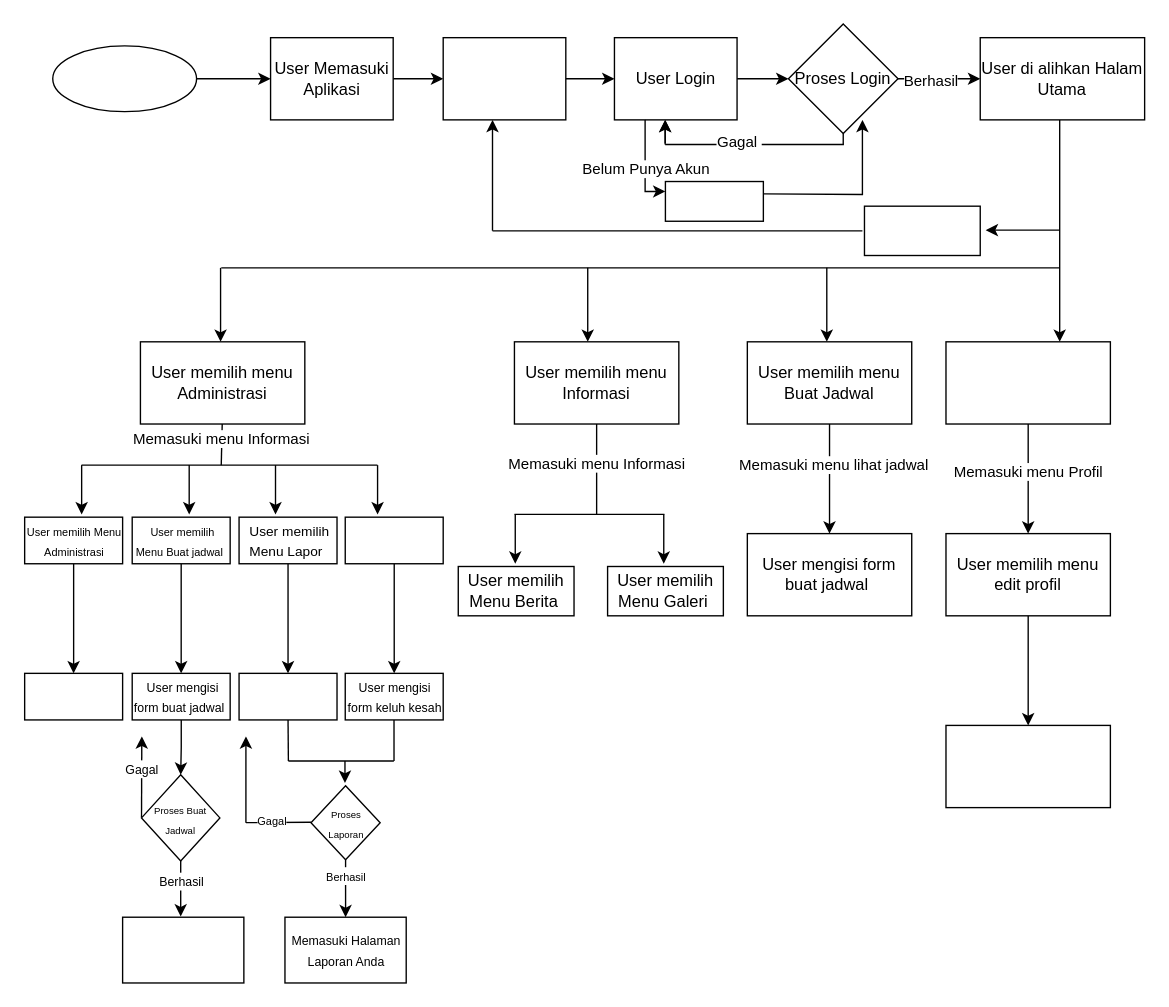
This 1169x1007 diagram has some shape labels left out. The shapes that lost their labels are listed below. From the top down, each one's centre as x and y in pixels, then its label:
At point (124, 78): "Mulai".
At point (504, 78): "User memilih Get Started".
At point (713, 200): "Register".
At point (921, 230): "User memilih Menu keluar".
At point (1027, 382): "User memilih menu Profil".
At point (393, 540): "User memilih Menu keluh kesah".
At point (73, 696): "User Mendowload form Administrasi".
At point (287, 696): "User mengisi form Lapor".
At point (1027, 766): "User selesai mengedit profil".
At point (182, 949): "Memasuki Halaman Jadwal Pertemuan".
